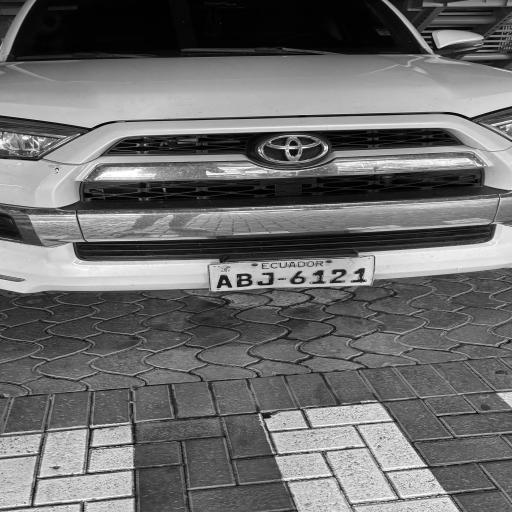license_plate: (209, 256, 374, 291)
